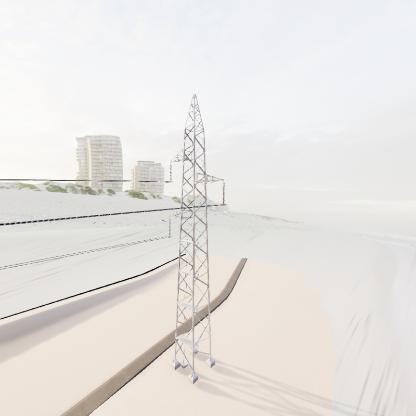tower: (163, 93, 230, 387)
